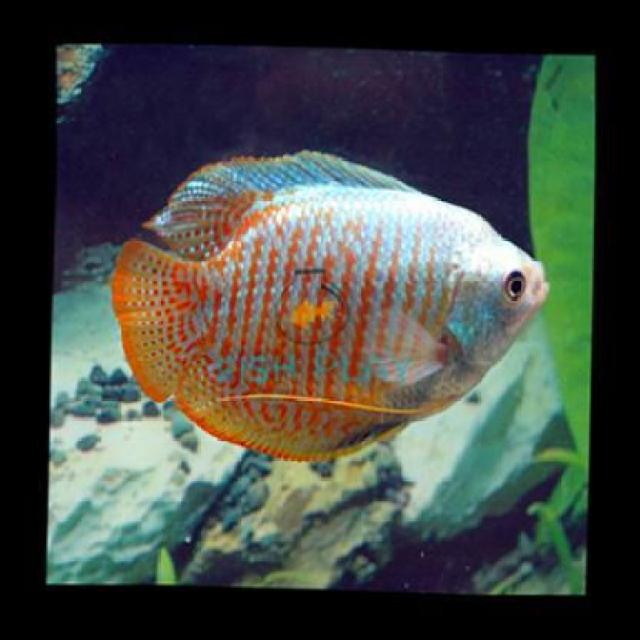Gourami: (110, 145, 555, 468)
